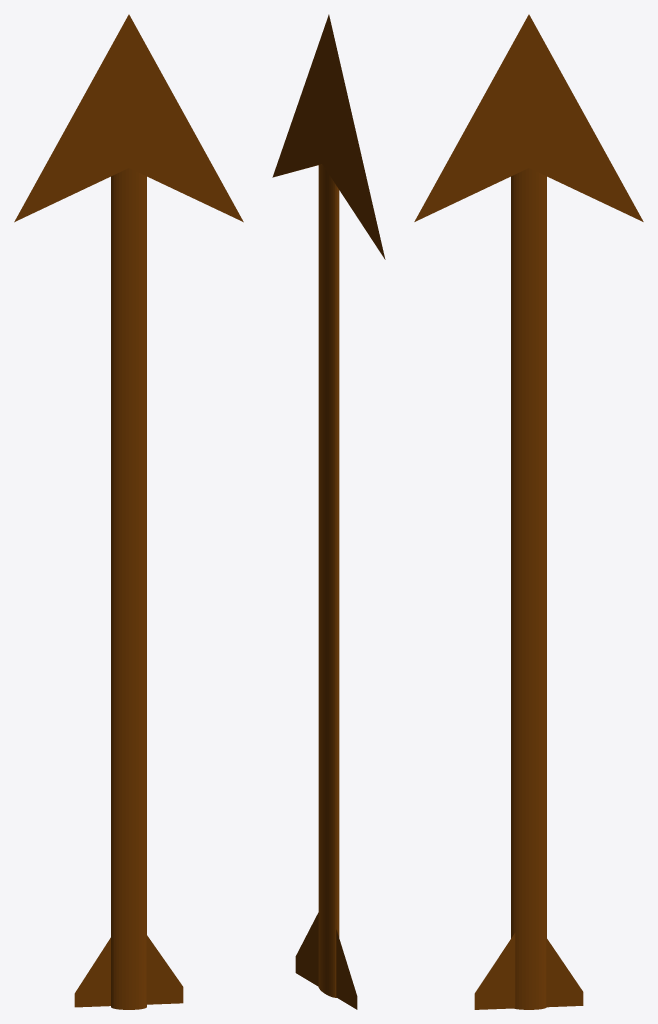
File: DC_gen arrow.gltf
3 views of the same model, side by side, from view 1: azimuth 90°, elevation 25°; view 2: azimuth 210°, elevation 25°; view 3: azimuth 270°, elevation 25° (orthographic).
Visible parts, largest first — view 1: Plane.004; view 2: Plane.004; view 3: Plane.004.
Part boxes in pixels (bbox=[...]): Plane.004: bbox=[14, 14, 243, 1009]; Plane.004: bbox=[272, 14, 385, 1009]; Plane.004: bbox=[414, 14, 643, 1009].
Size of the model in its own units: 0.0145 by 0.9914 by 0.208.
